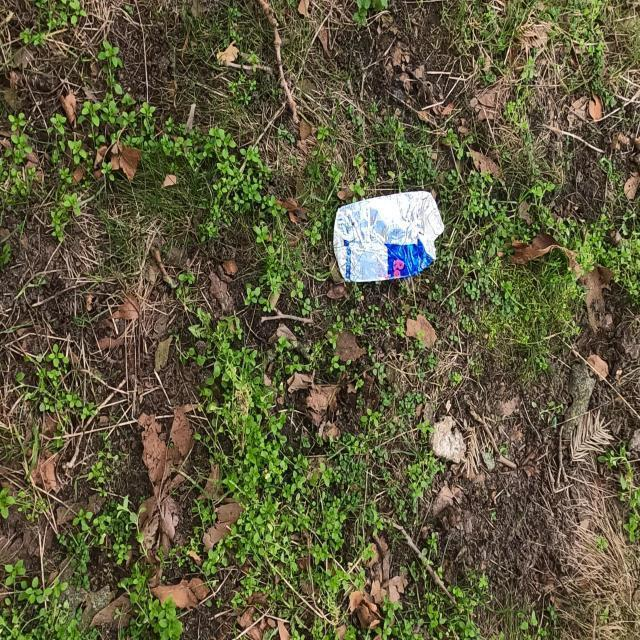Can-Metal: (332, 190, 446, 284)
